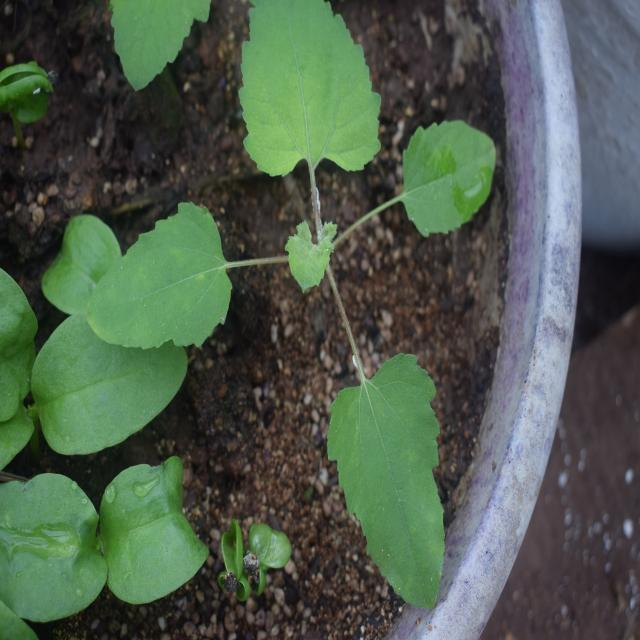cocklebur: (124, 0, 488, 612)
